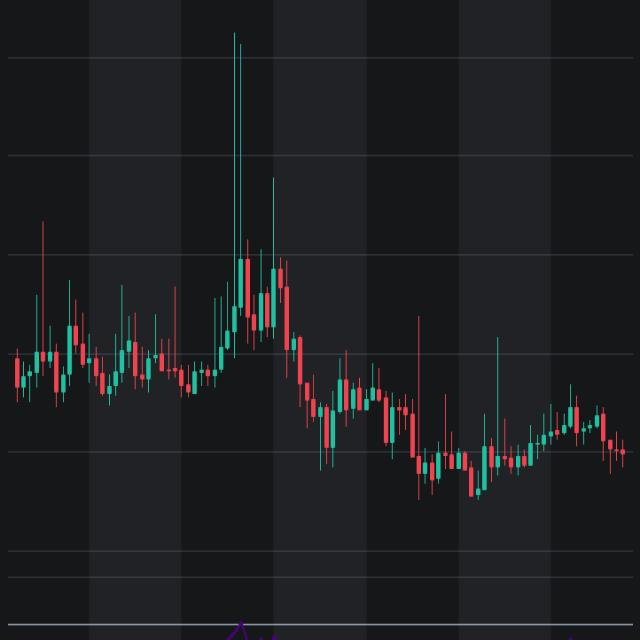Falling-Wedge: (194, 186, 586, 541)
